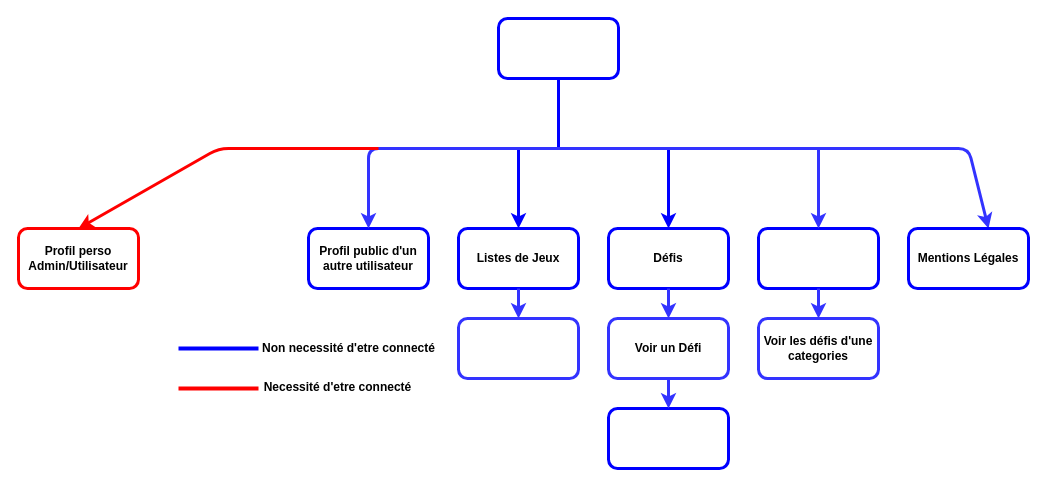
Some shapes in this 1047 by 487 pixel diagram are drawn without their labels. The shapes that lost their labels are listed below. From the top down, each one's box as (x1, y1, x2, y2) in pixels, then its label:
(496, 16, 620, 80): Acceuil
(756, 226, 880, 290): Catégories
(456, 316, 580, 380): Voir un Jeux
(606, 406, 730, 470): Page d'une réalisation
